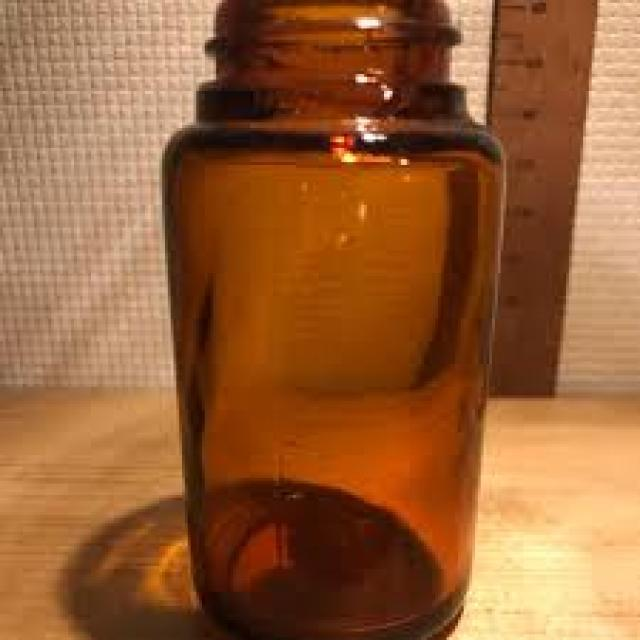Glass: (158, 0, 510, 640)
